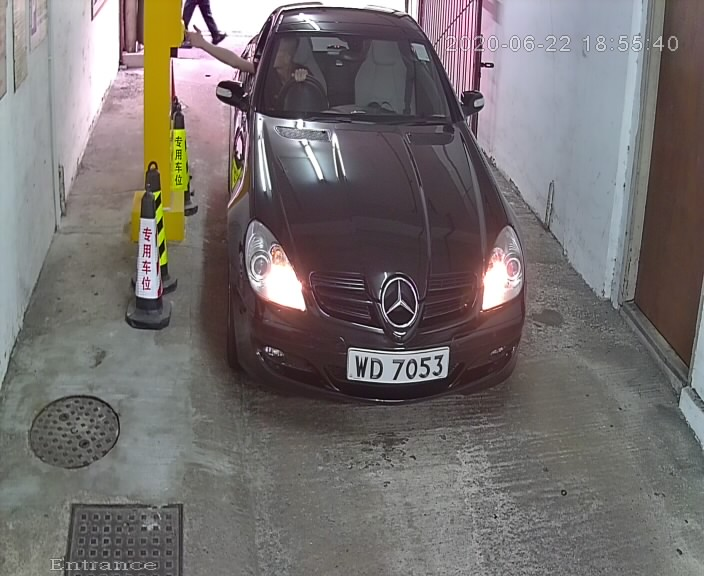privatecar: (209, 2, 548, 459)
